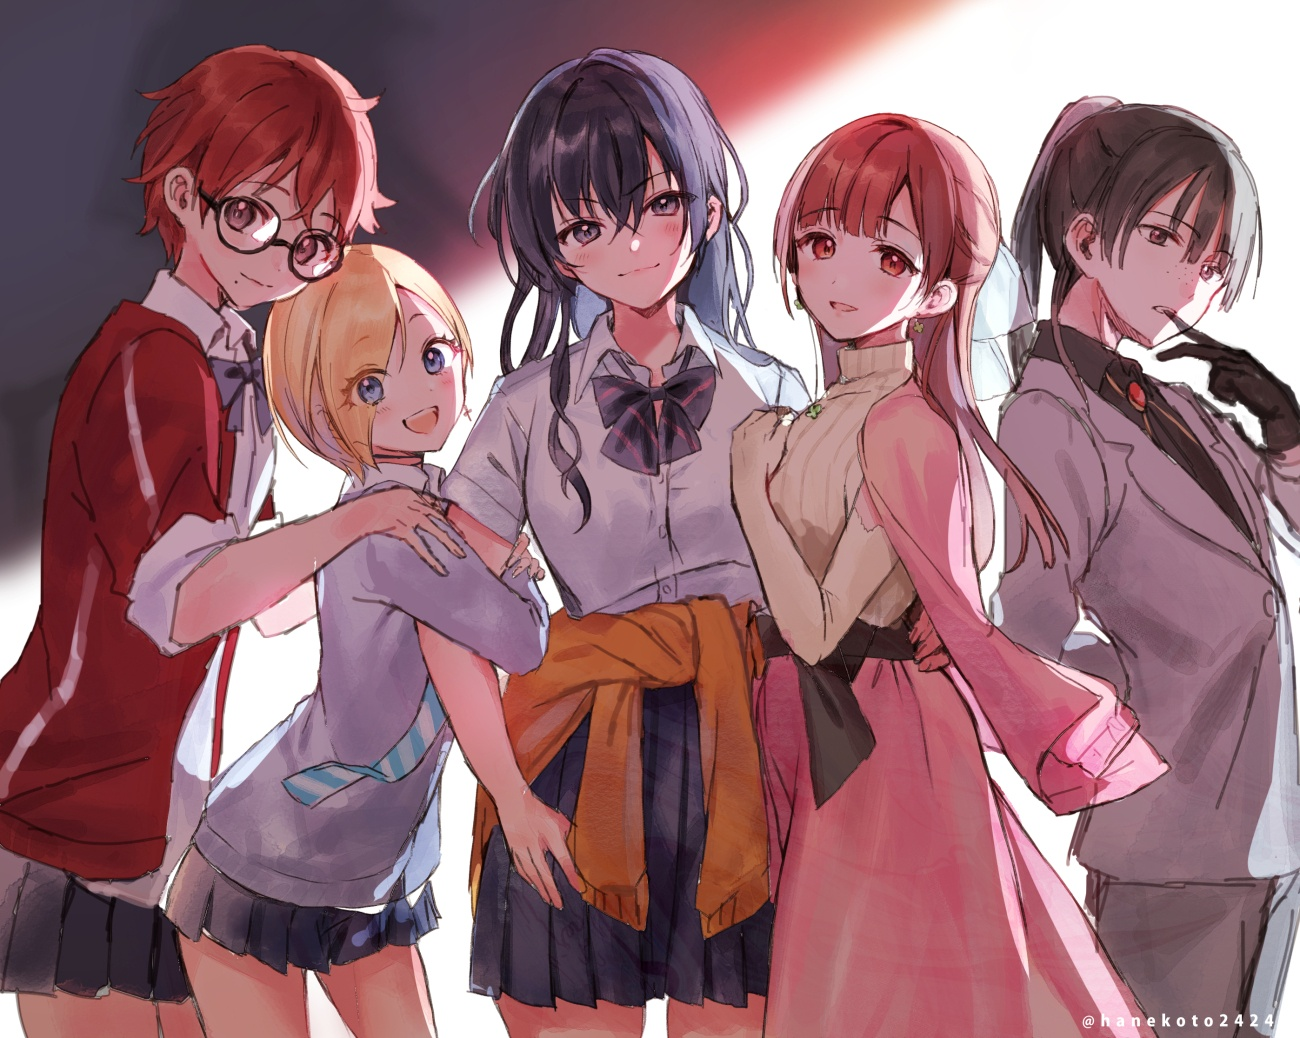纸片人正脸: (471, 45, 761, 321), (1010, 92, 1272, 364), (134, 37, 383, 317), (770, 108, 1011, 352), (259, 244, 478, 470)
